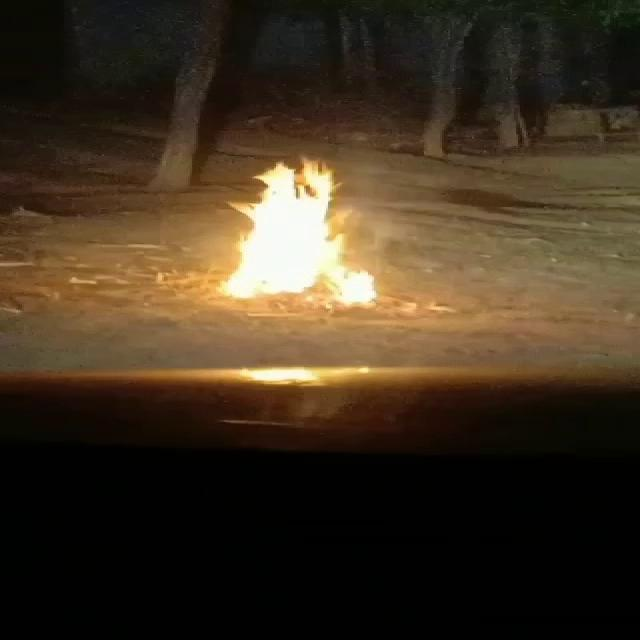Fire: (220, 158, 380, 317)
